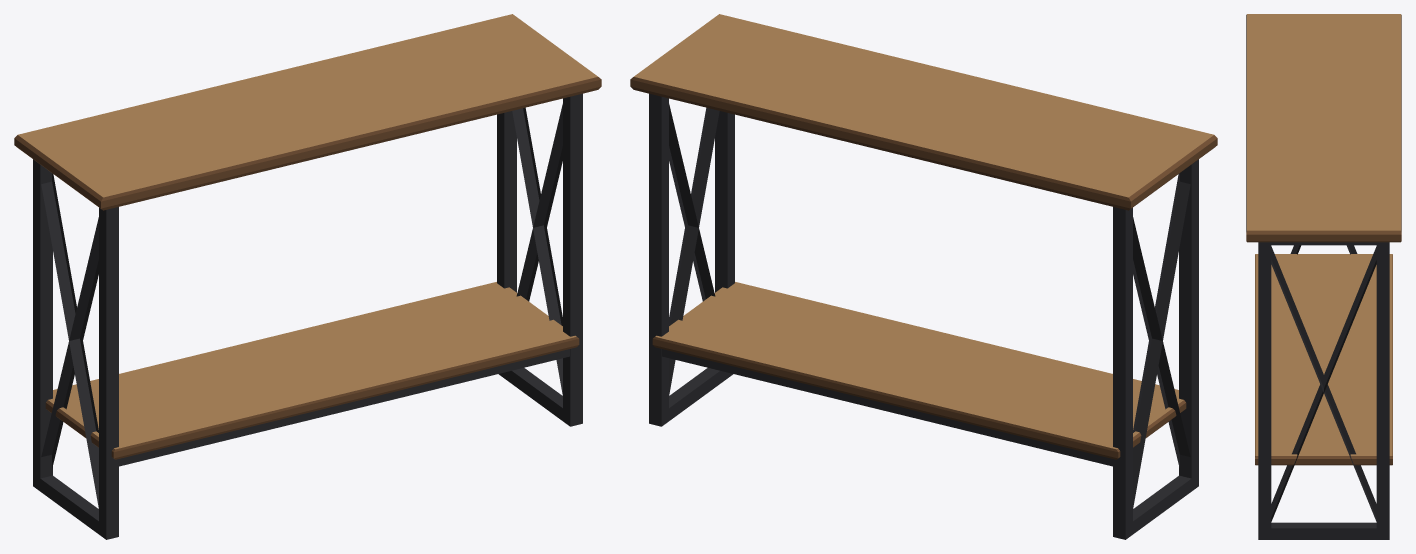
Rendered from FN_Table_Console.obj.
The picture shows the model from 3 angles, left to right: view 1: azimuth 30°, elevation 25°; view 2: azimuth 150°, elevation 25°; view 3: azimuth 270°, elevation 25°; orthographic projection. The views are drawn at different scales.
Visible parts, largest first — view 1: FN_Table_Console; view 2: FN_Table_Console; view 3: FN_Table_Console.
Part boxes in pixels (<box>): FN_Table_Console: <box>14,14,601,539</box>; FN_Table_Console: <box>630,14,1217,539</box>; FN_Table_Console: <box>1246,14,1401,539</box>.
Size of the model in its own units: 1.2 by 0.8 by 0.36.
Materials: 1 (1 with a texture image).
